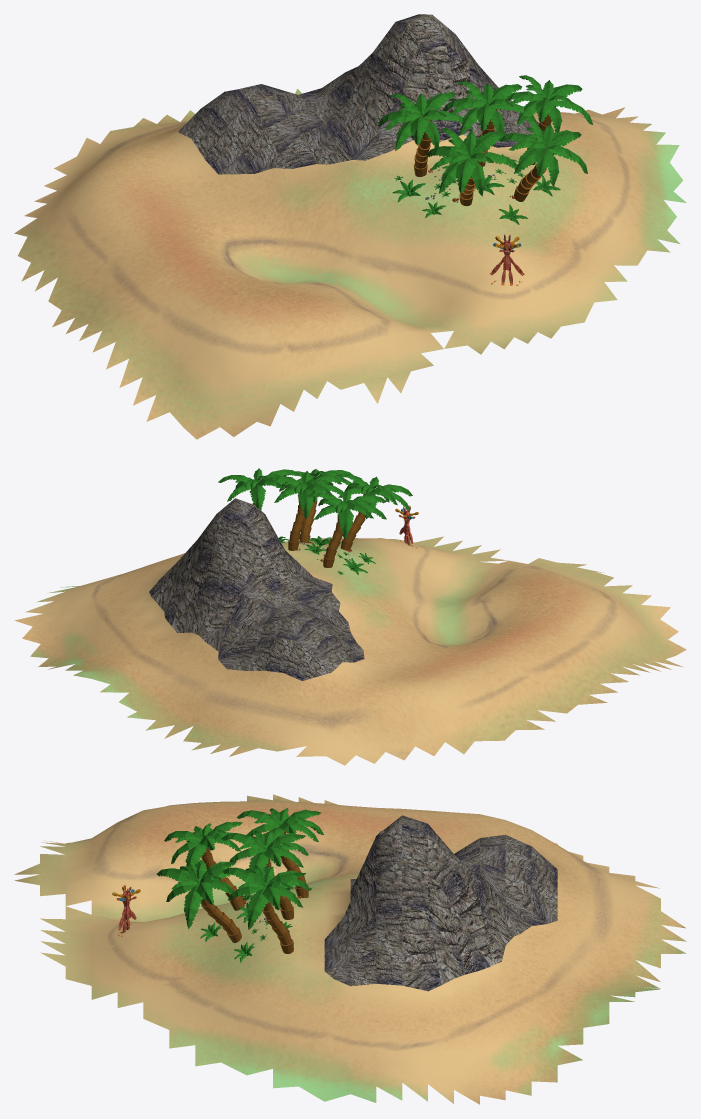
File: ile_1.glb
3 views of the same model, one above another, from view 1: azimuth 30°, elevation 25°; view 2: azimuth 150°, elevation 25°; view 3: azimuth 270°, elevation 25° (orthographic). The views are drawn at different scales.
Visible parts, largest first — view 1: Terrain, Rochers; view 2: Terrain, Rochers, palma tronco.006_Material.019_0; view 3: Terrain, Rochers, palma tronco.011_Material.019_0, palma tronco.013_Material.019_0, Foglia.388_palmafoglia.001_0, Foglia.416_palmafoglia.001_0.
Part boxes in pixels (x1=…): Terrain: x1=14, y1=89, x2=686, y2=439; Rochers: x1=178, y1=14, x2=539, y2=174; Terrain: x1=14, y1=536, x2=686, y2=765; Rochers: x1=149, y1=498, x2=364, y2=680; palma tronco.006_Material.019_0: x1=323, y1=514, x2=342, y2=567; Terrain: x1=14, y1=794, x2=686, y2=1104; Rochers: x1=324, y1=815, x2=557, y2=991; palma tronco.011_Material.019_0: x1=261, y1=889, x2=293, y2=953; palma tronco.013_Material.019_0: x1=196, y1=885, x2=241, y2=942; Foglia.388_palmafoglia.001_0: x1=247, y1=888, x2=268, y2=929; Foglia.416_palmafoglia.001_0: x1=183, y1=884, x2=203, y2=928.
Bounding box in the file's own units: 23.97 × 7.32 × 22.26.
Materials: 10 (10 with a texture image).
